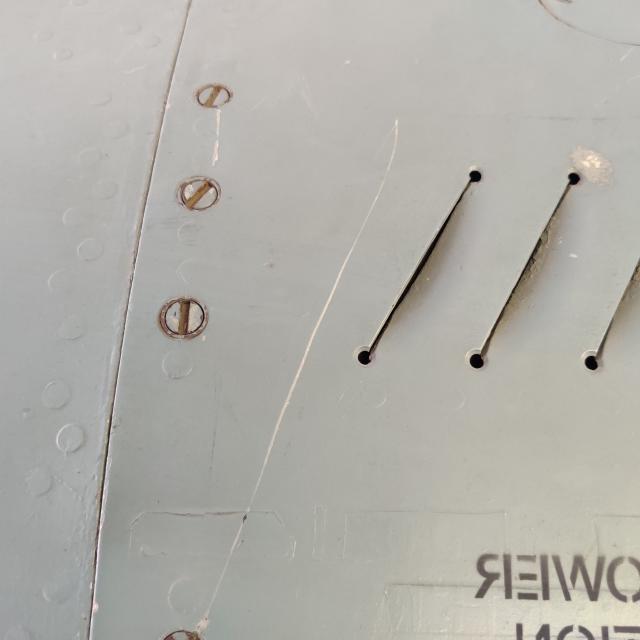Scratch: (183, 94, 410, 634)
